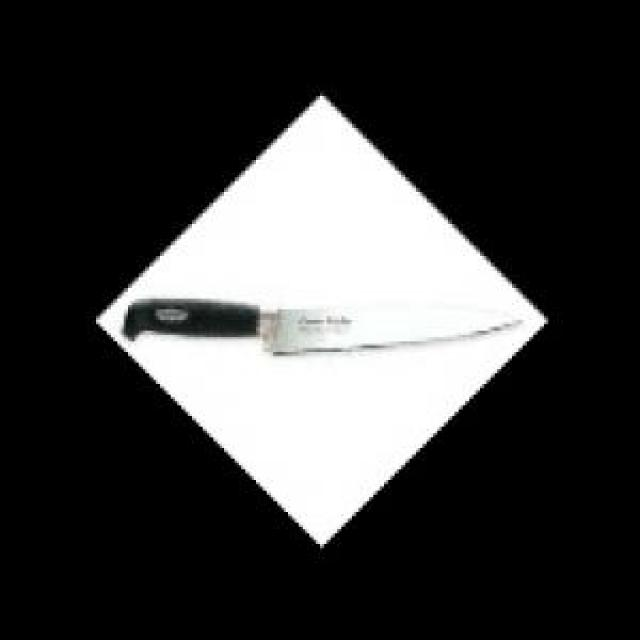knife: (124, 298, 535, 362)
